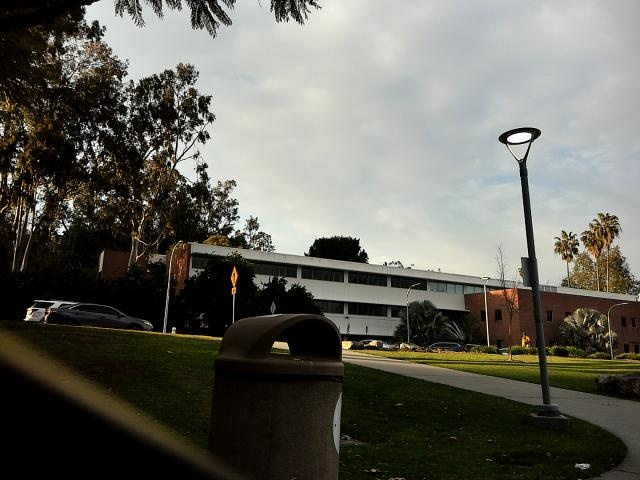trashcan: (201, 299, 353, 480)
